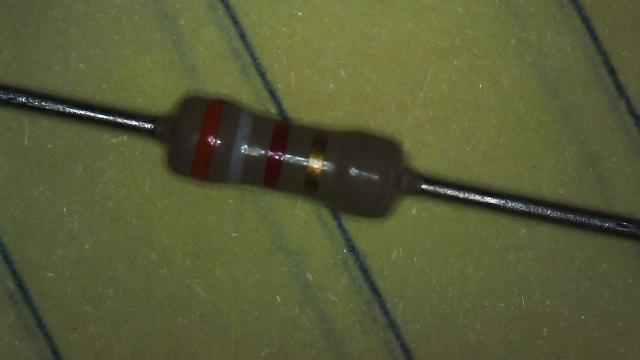gold: (305, 131, 326, 197)
orange: (190, 100, 223, 180)
red: (262, 122, 290, 188)
resistor: (142, 69, 425, 239)
white: (228, 109, 254, 182)
